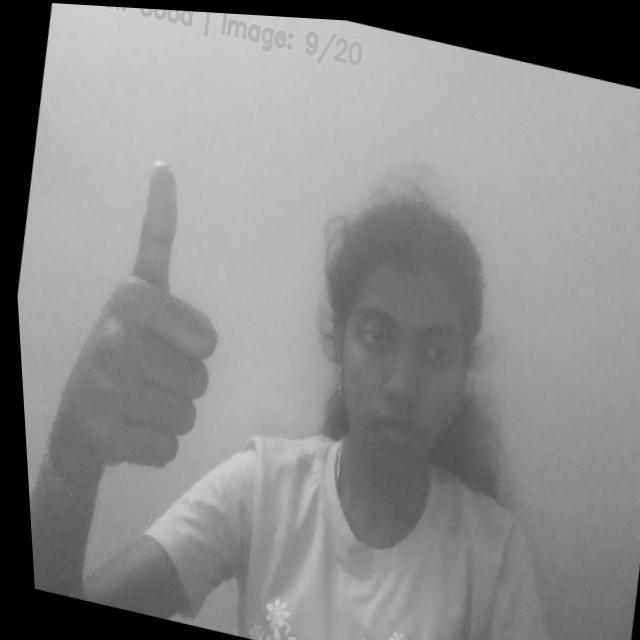Good: (10, 132, 253, 500)
